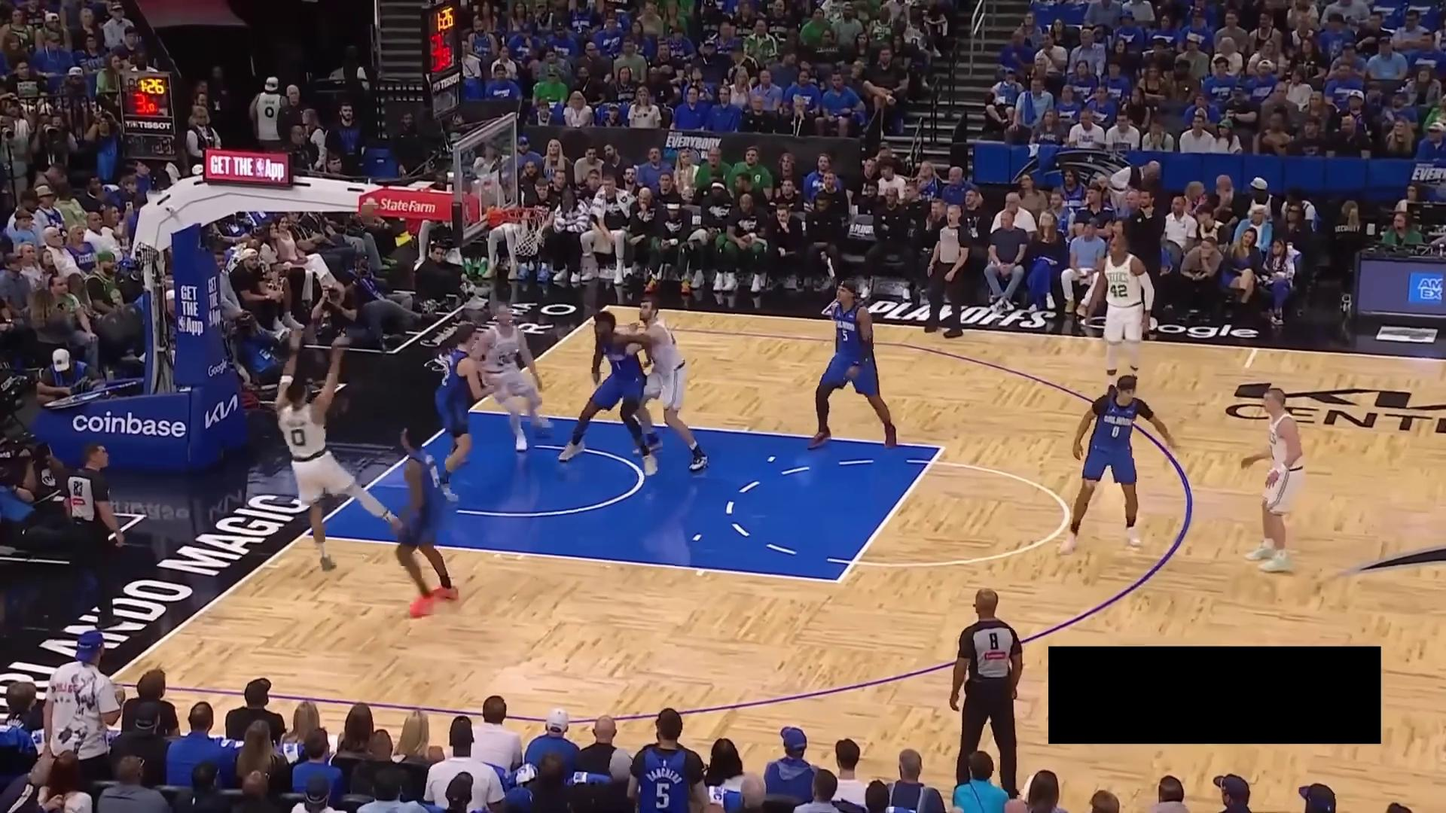ball: (360, 202, 381, 226)
number: (287, 425, 308, 446), (496, 351, 516, 368), (1110, 283, 1130, 299), (841, 329, 850, 342), (1112, 425, 1120, 438)
player: (1059, 375, 1181, 559), (557, 310, 658, 476), (805, 279, 897, 450), (386, 420, 466, 616), (627, 293, 709, 472), (1243, 380, 1310, 574), (470, 302, 554, 451), (1084, 235, 1156, 394), (436, 323, 495, 502)
player-jump-shot: (268, 321, 412, 570)
referee: (947, 583, 1027, 799), (65, 437, 131, 629), (923, 204, 971, 338)
rim: (504, 204, 553, 221)
